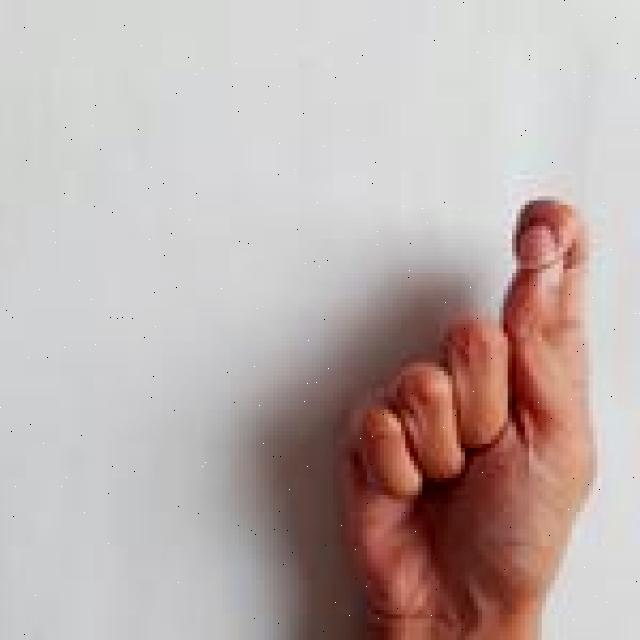T: (331, 190, 605, 640)
